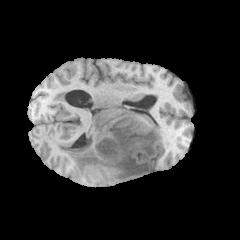glioma: (57, 106, 161, 181)
